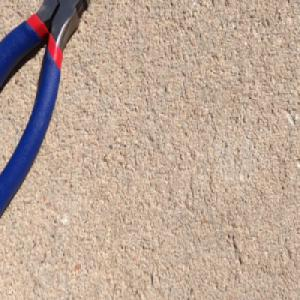Pliers: (0, 0, 92, 223)
